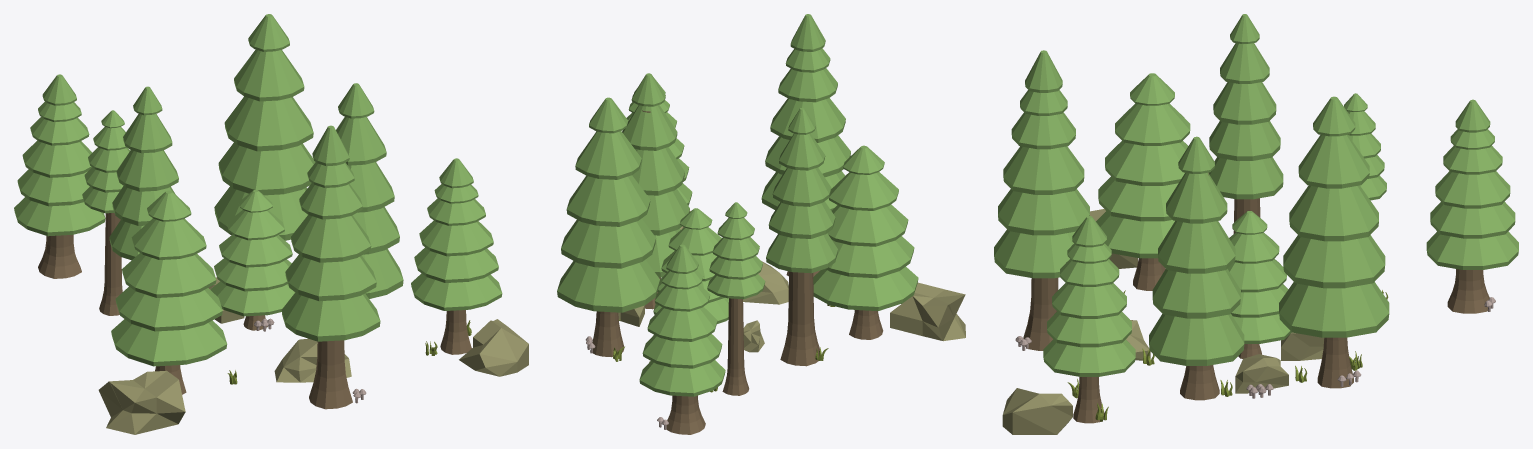
Rendered from ForrestB.fbx.
The picture shows the model from 3 angles, left to right: view 1: azimuth 30°, elevation 25°; view 2: azimuth 150°, elevation 25°; view 3: azimuth 270°, elevation 25°; orthographic projection. The views are drawn at different scales.
Visible parts, largest first — view 1: ForrestG; view 2: ForrestG; view 3: ForrestG.
Boxes of the visible parts, x1,y1,x2,y2 form: ForrestG: (14, 14, 528, 434); ForrestG: (557, 14, 965, 434); ForrestG: (994, 14, 1518, 434).
Bounding box in the file's own units: 4123 × 2887 × 4638.
